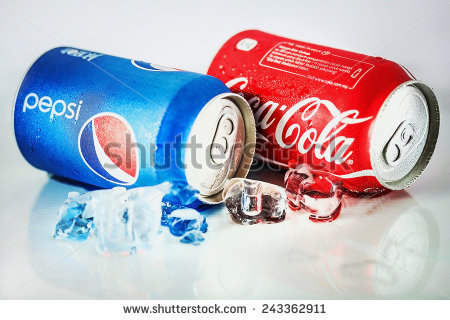can: (16, 43, 263, 222), (255, 19, 448, 209)
